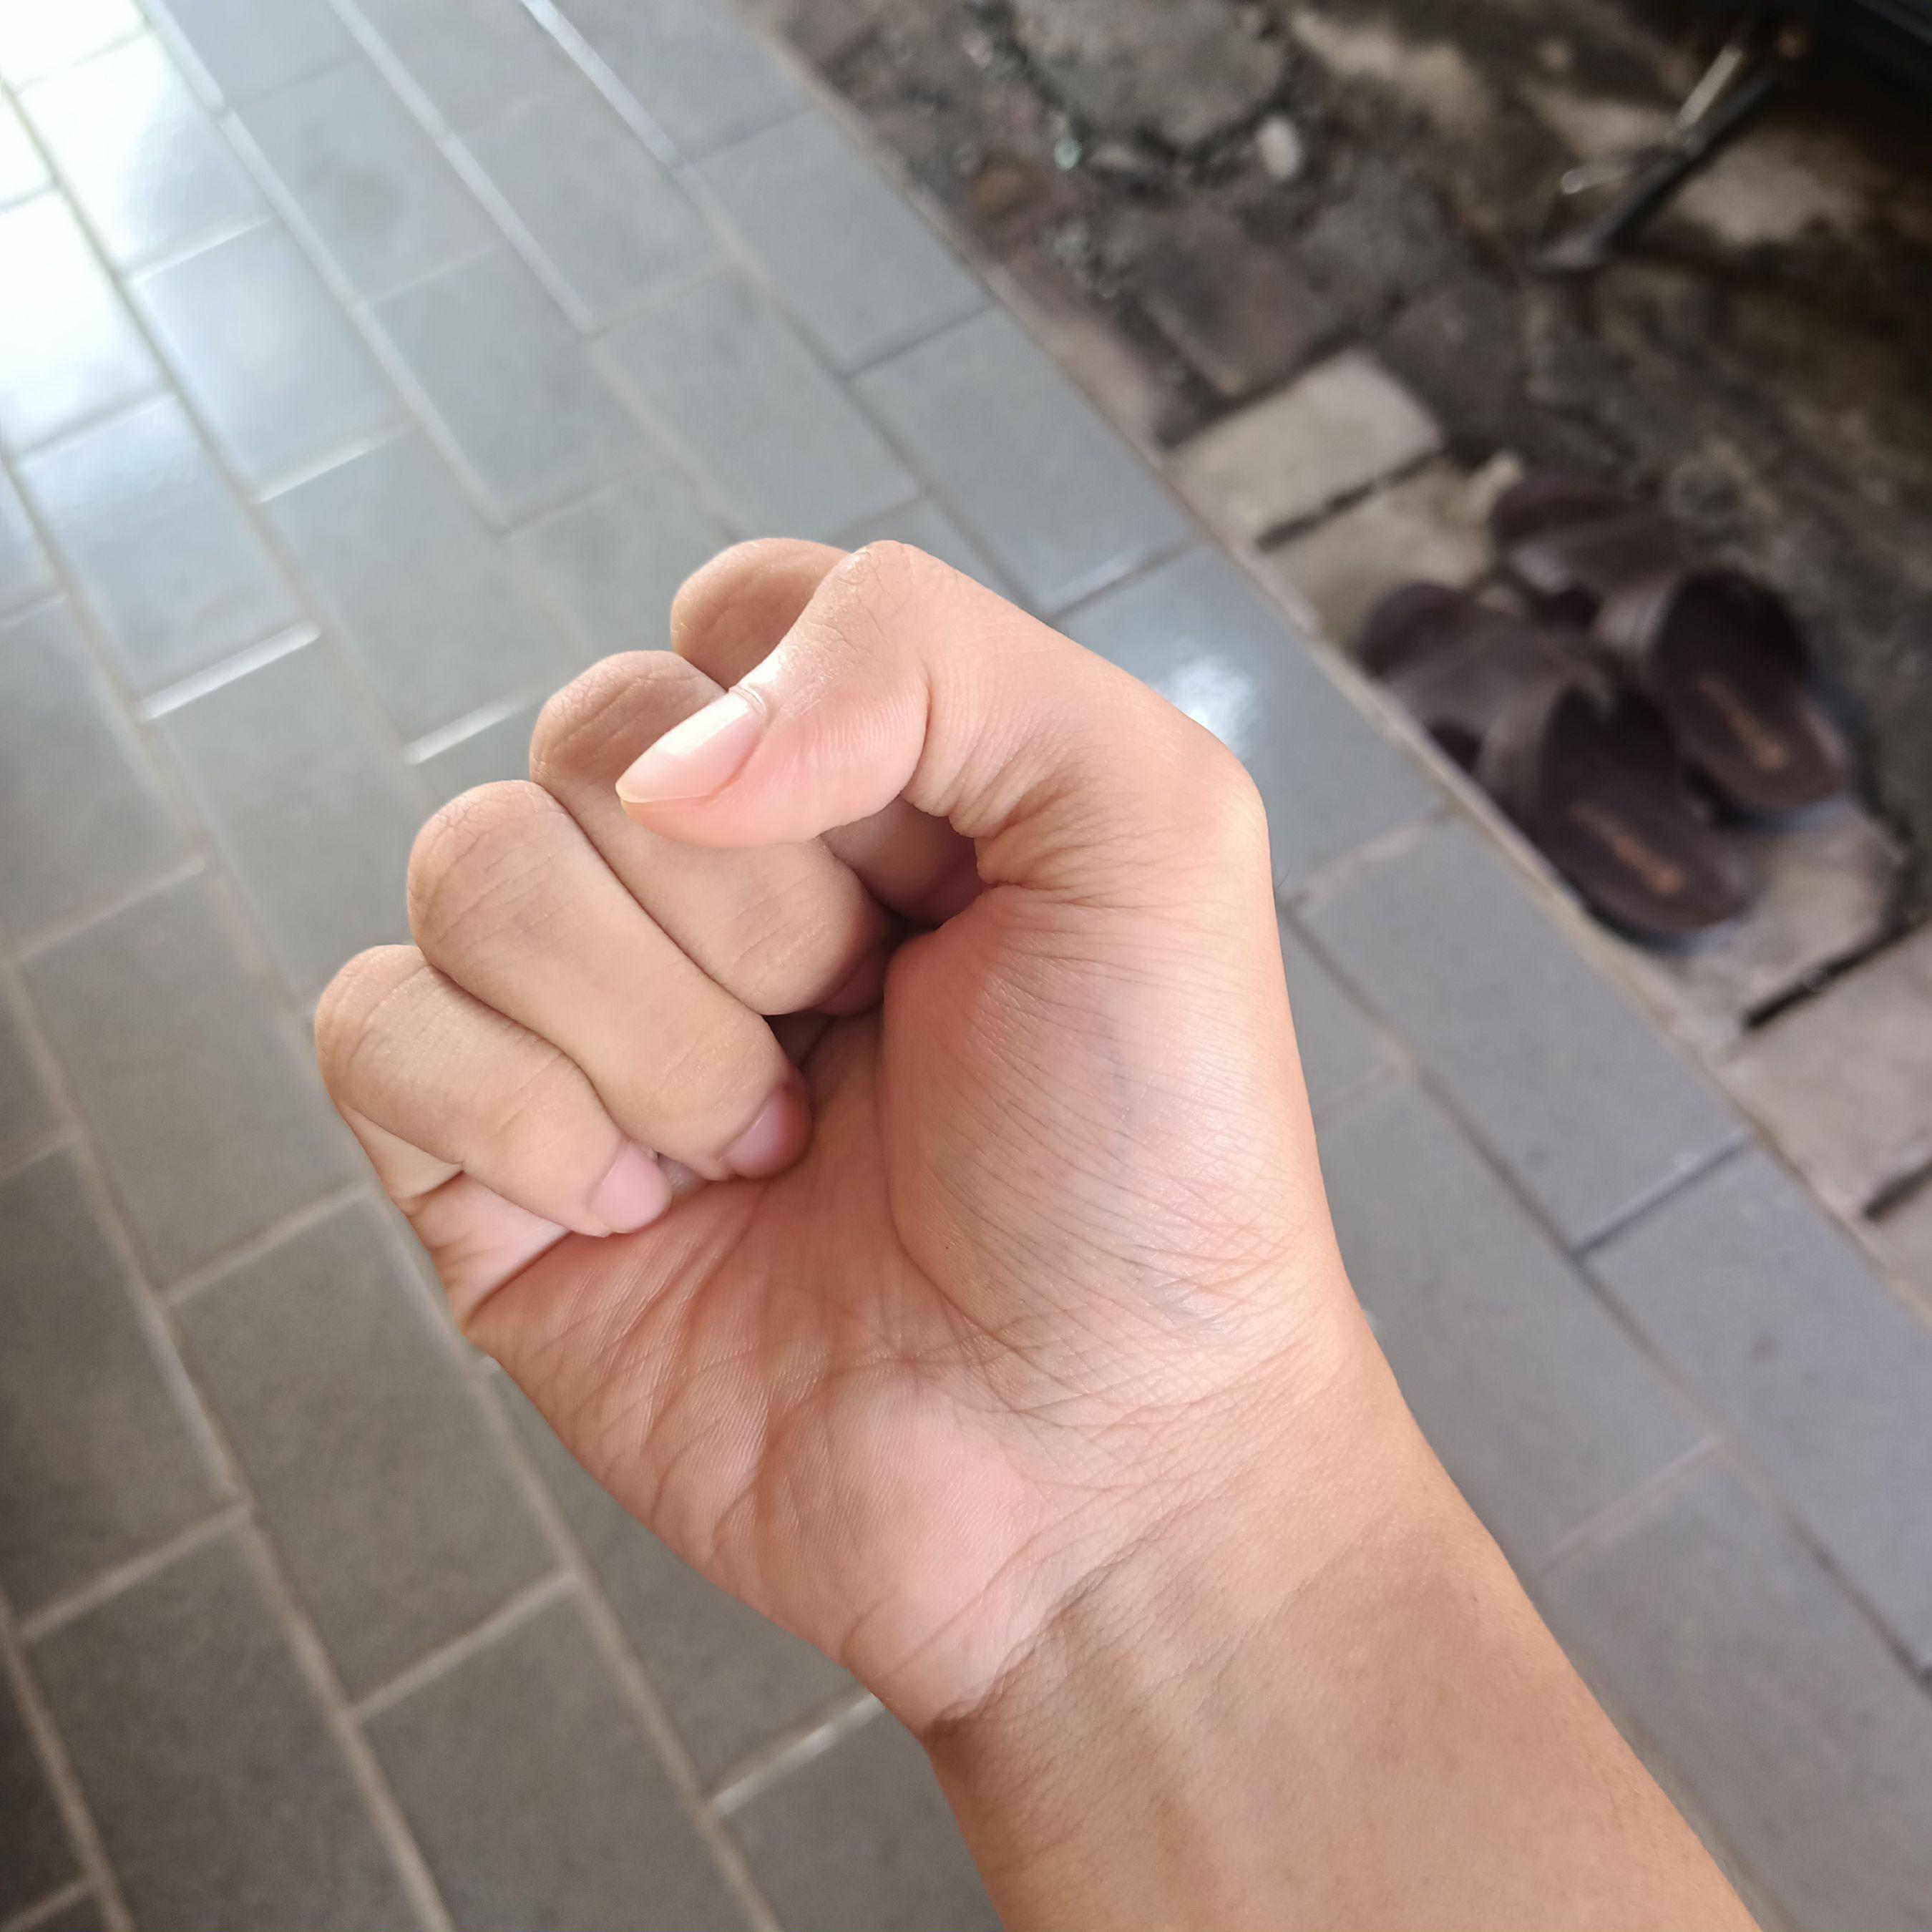rock: (292, 494, 1398, 1746)
